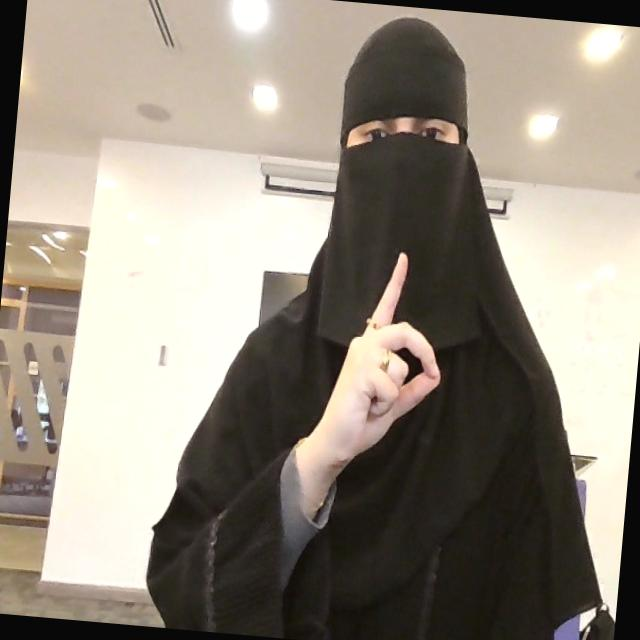emergency: (290, 239, 462, 492)
